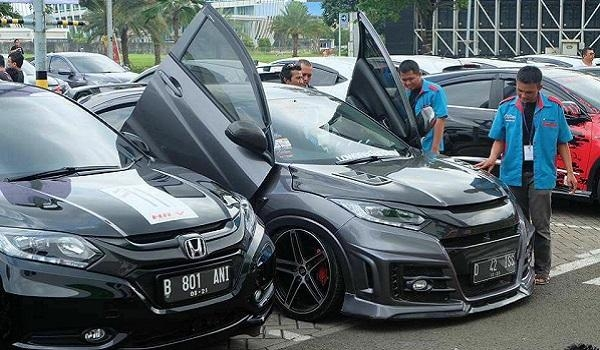plate: (162, 270, 235, 298), (473, 256, 518, 278)
